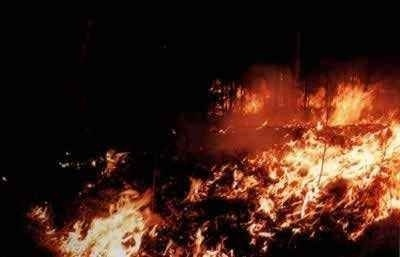fire: (214, 65, 400, 242)
